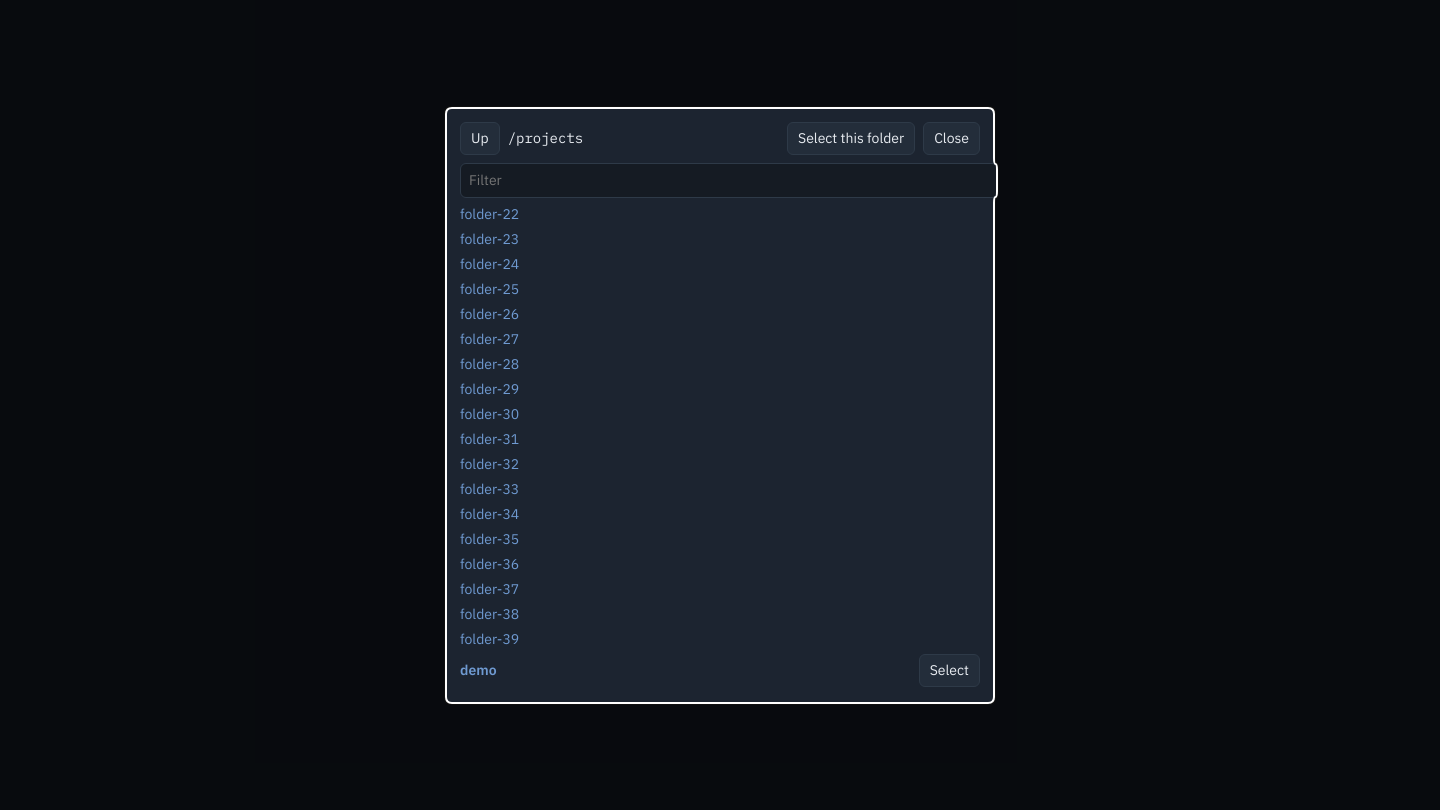
Scenario: BrowseDialog › filters the listing and marks the folder the Path field named
(page scrolled)
Expected: the text "/projects" is shown, [508,128,583,146]
Type "folder-1" into the field named "Filter this folder" at [729, 180], box [460,162,998,198]
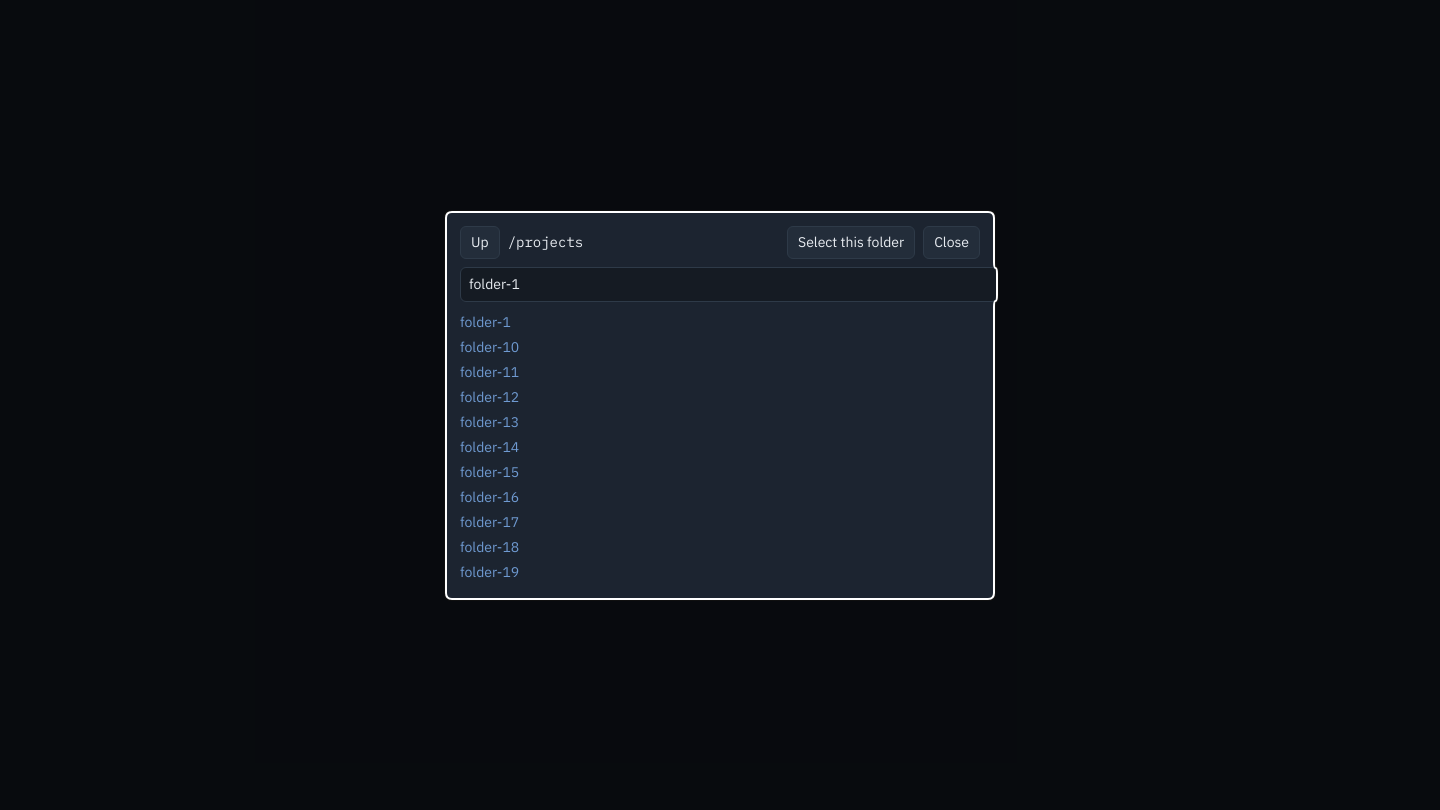
Expected: the number of buttons "folder-1" is 11
Expected: the button "demo" is gone
Replace the text in the field named "Filter this folder" with "zzz" at [729, 284], box [460,266,998,302]
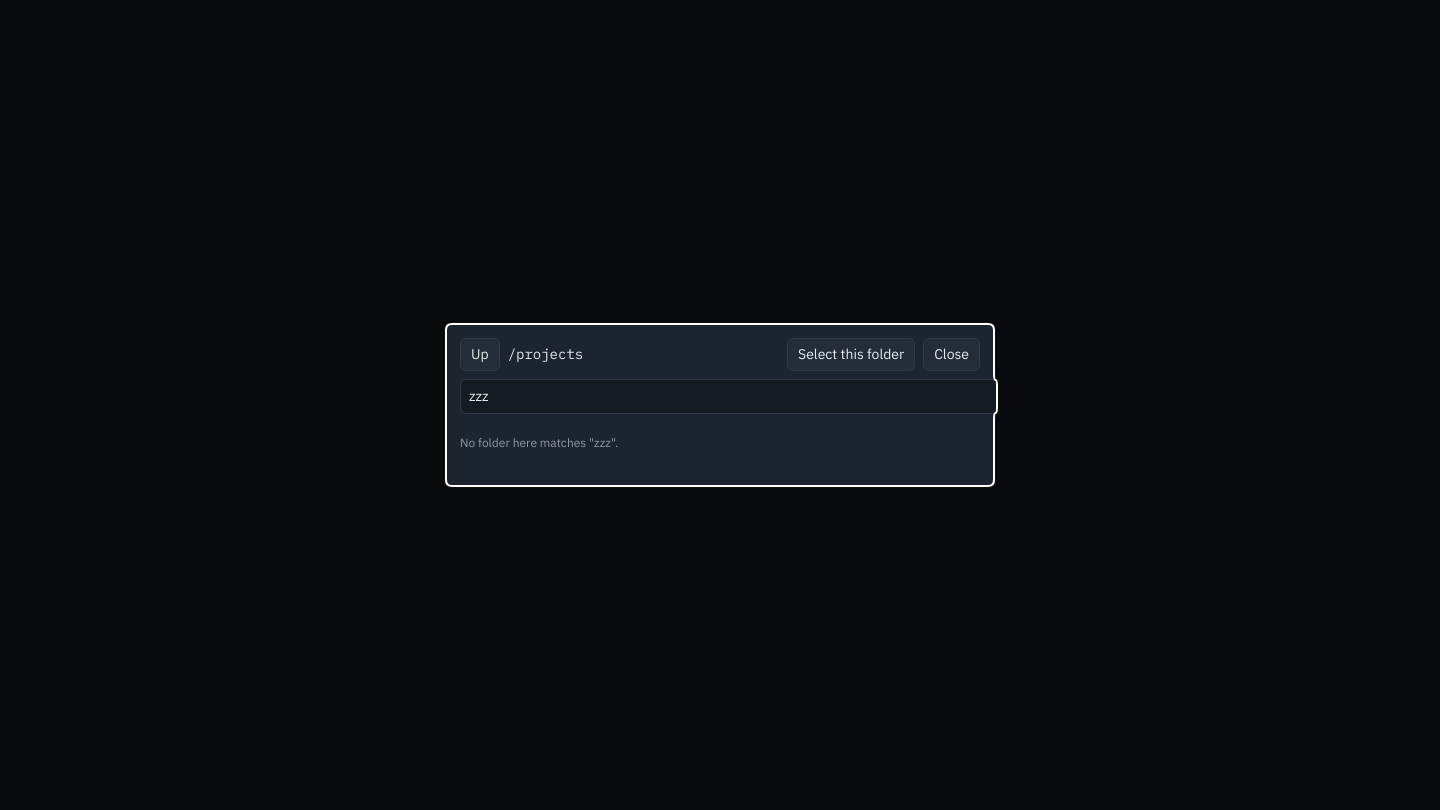
Expected: the text "No folder here matches \"zzz\"." is shown, [460,435,618,450]
Replace the text in the field named "Filter this folder" with "folder-2" at [729, 396], box [460,379,998,414]
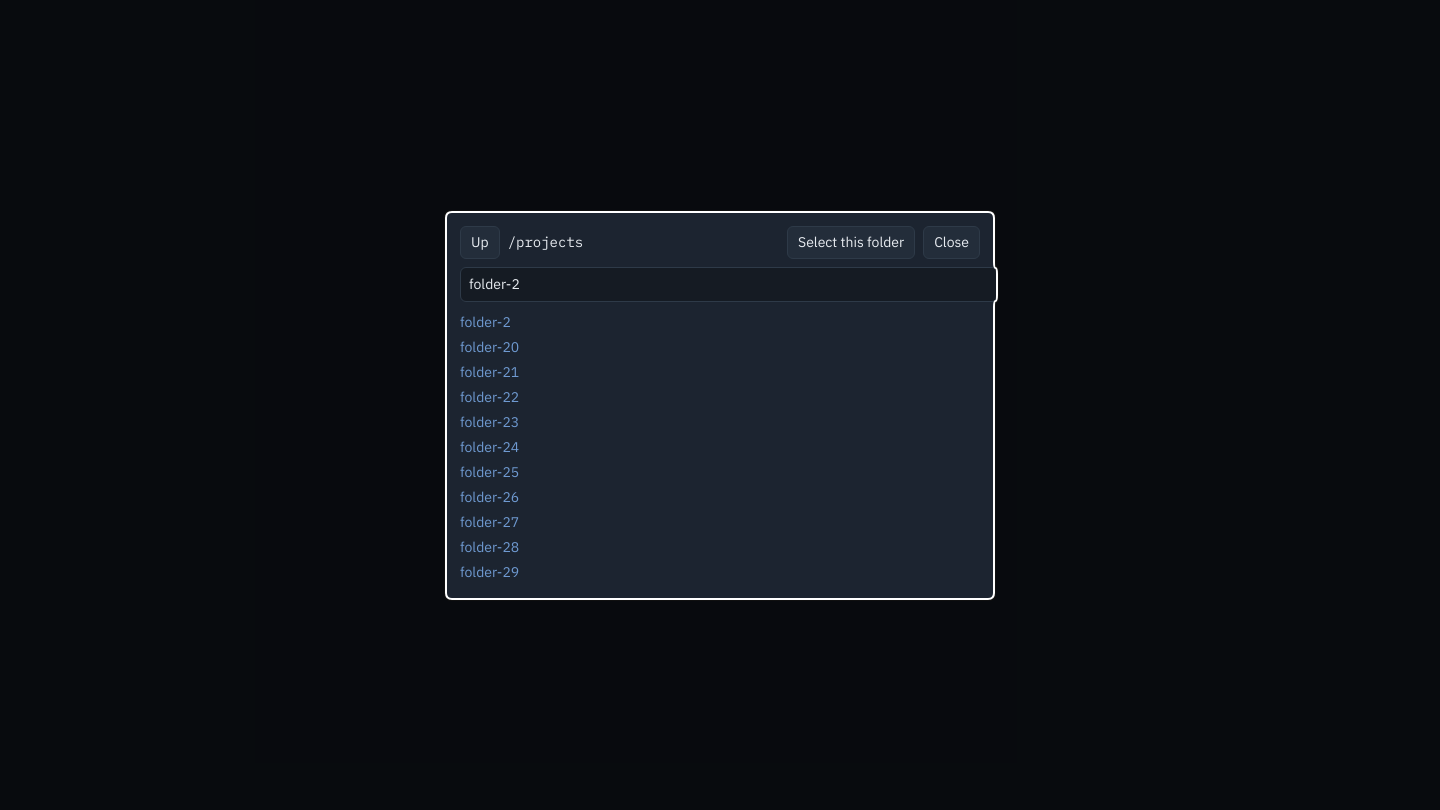
Click the button "folder-2" at [485, 322], box [460,312,511,332]
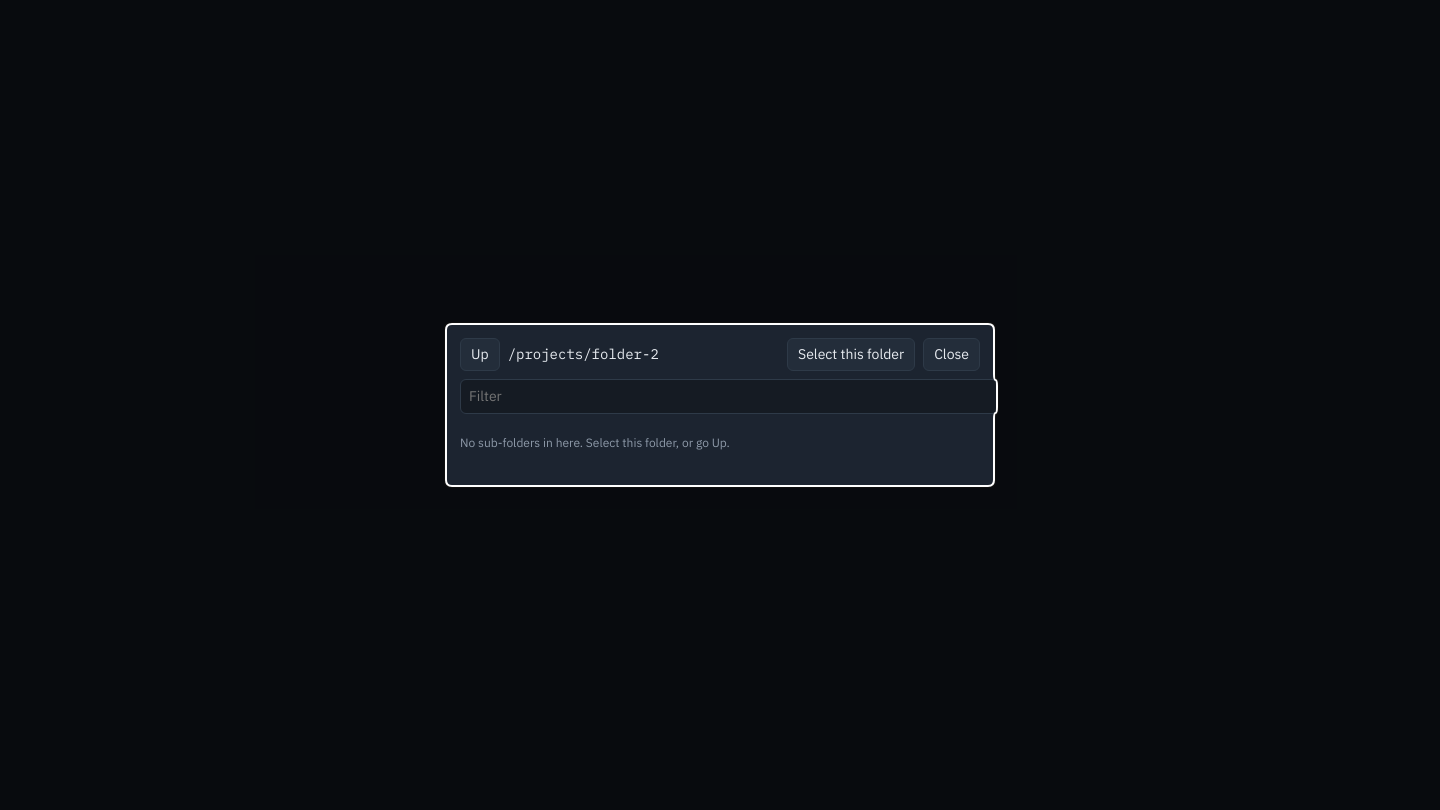
Expected: the text "/projects/folder-2" is shown, [508,345,659,363]
Expected: the field named "Filter this folder" is empty, [460,379,998,414]
